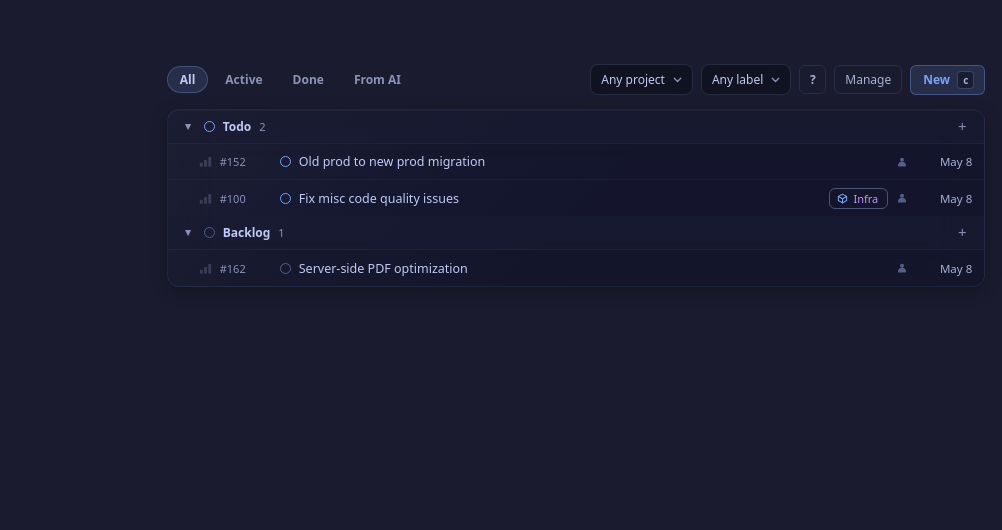
Test case: TodosPage row context menu › closes on Escape without touching the todo
Expected: the text "Old prod to new prod migration" is shown, left=299, top=153, right=485, bottom=170
Right-click the button with aria-label "Edit Old prod to new prod migration" at [392, 162], box left=199, top=144, right=972, bottom=179
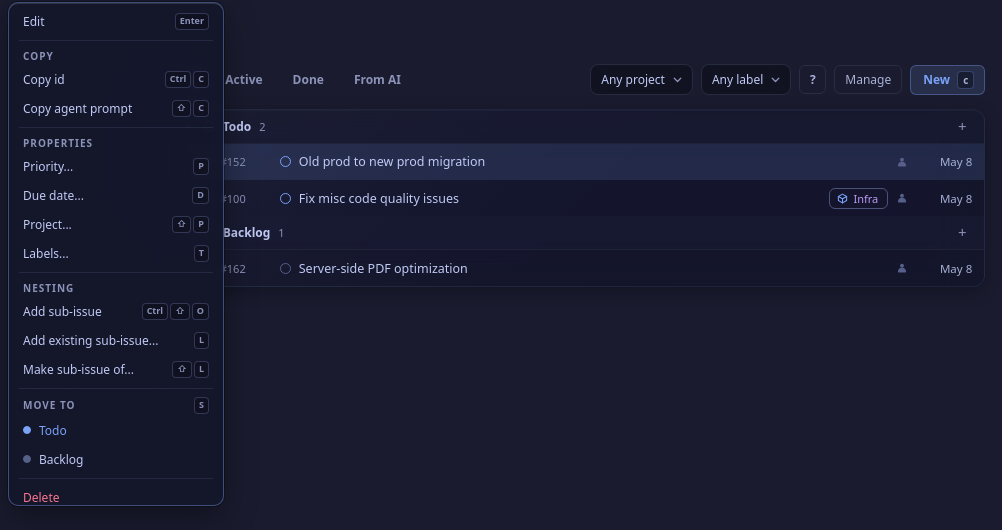
Result: the menu is shown at left=8, top=2, right=224, bottom=506
Press Escape
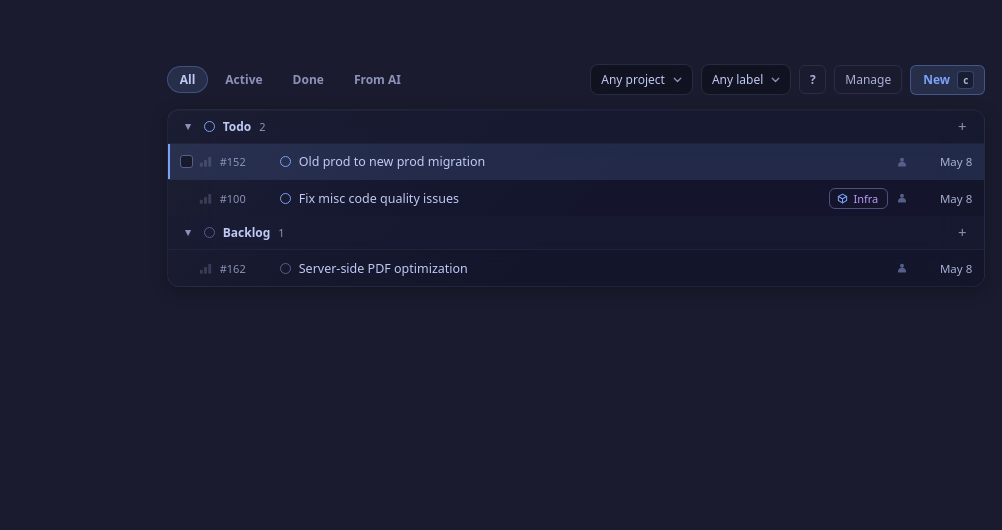
Result: the menu is gone
